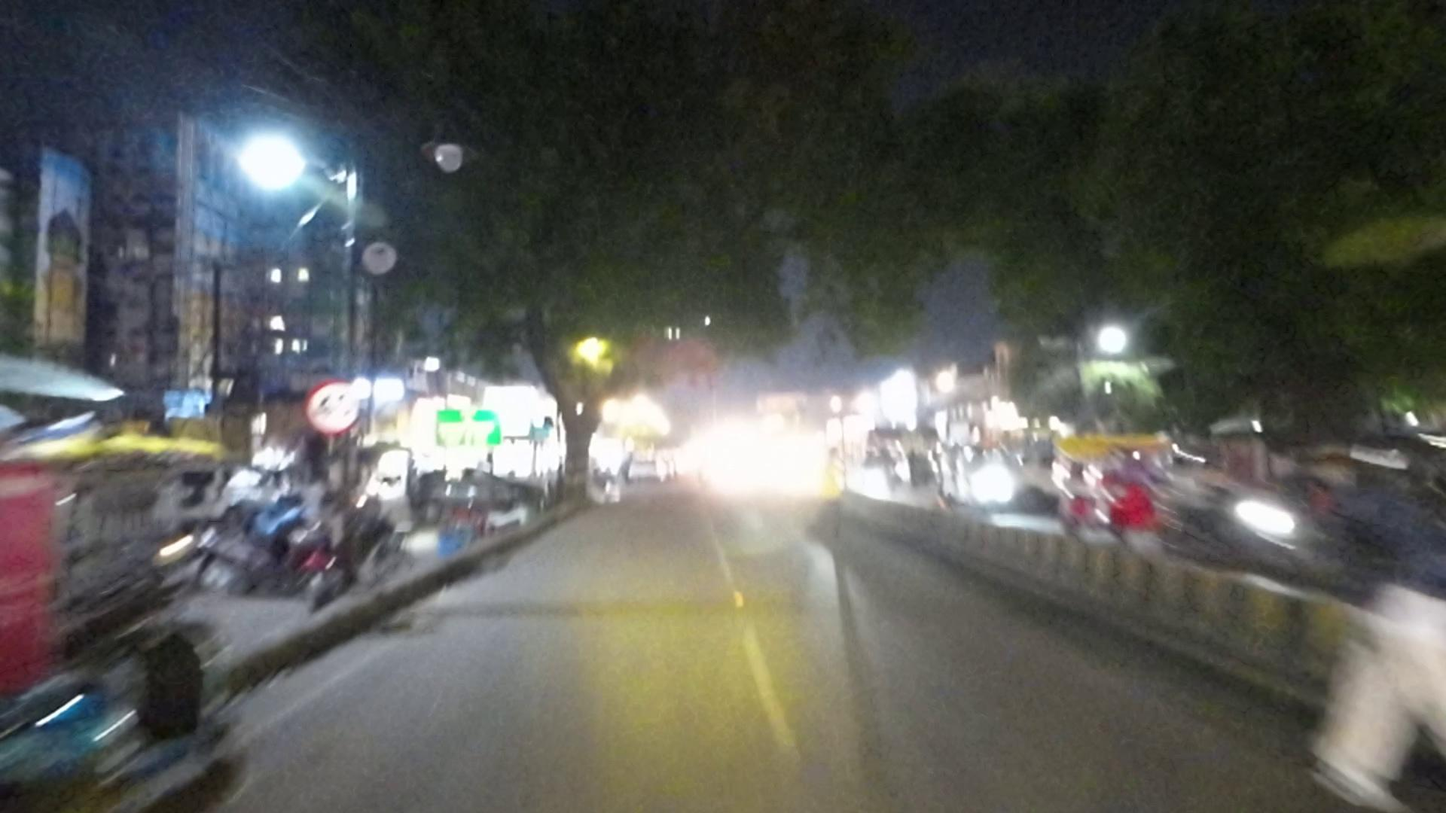streetlight: (418, 104, 488, 186)
